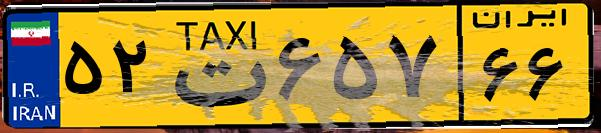2: (110, 28, 158, 98)
5: (330, 28, 385, 110), (57, 26, 110, 100)
6: (270, 28, 330, 110), (475, 38, 525, 113), (525, 38, 570, 115)
7: (385, 28, 445, 110)
ت: (158, 12, 270, 120)
